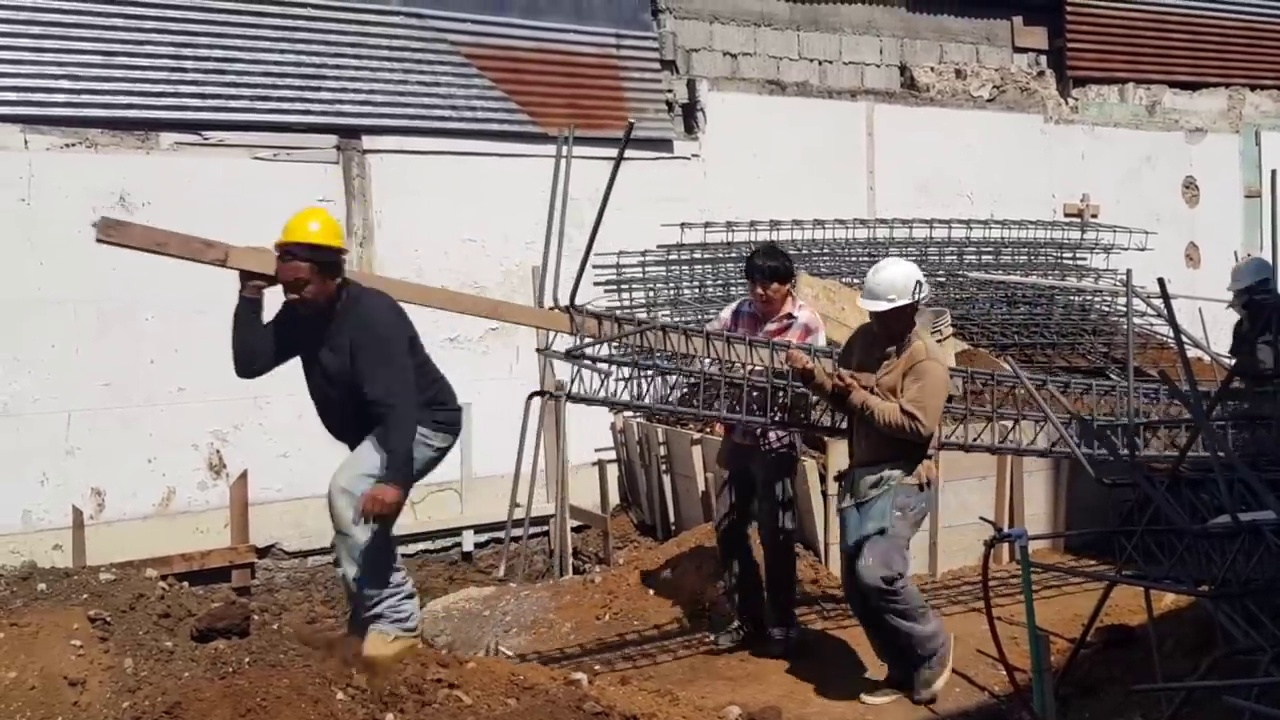helmet: (266, 200, 351, 263), (859, 254, 933, 315), (1228, 263, 1273, 301)
helmet-off: (746, 245, 797, 316)
helmet-on: (265, 209, 344, 314), (860, 256, 941, 353), (1220, 257, 1280, 328)
person: (252, 195, 455, 686), (813, 260, 952, 696), (704, 249, 821, 652), (1215, 273, 1275, 398)
